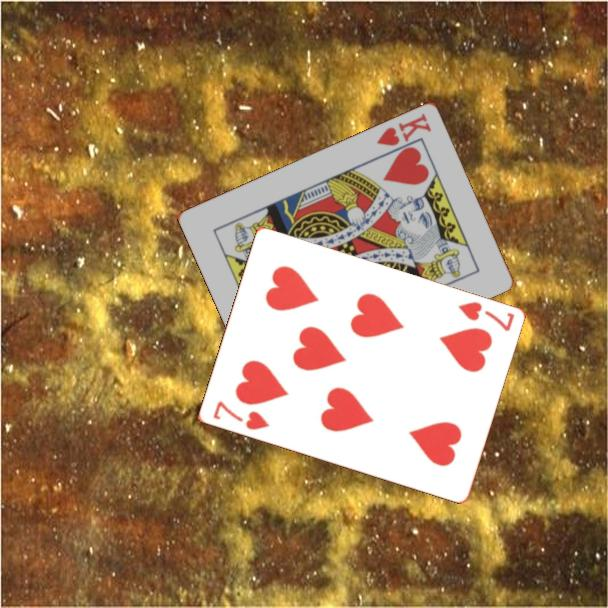h07: (454, 298, 517, 334), (209, 398, 272, 433)
h13: (373, 109, 434, 149)
